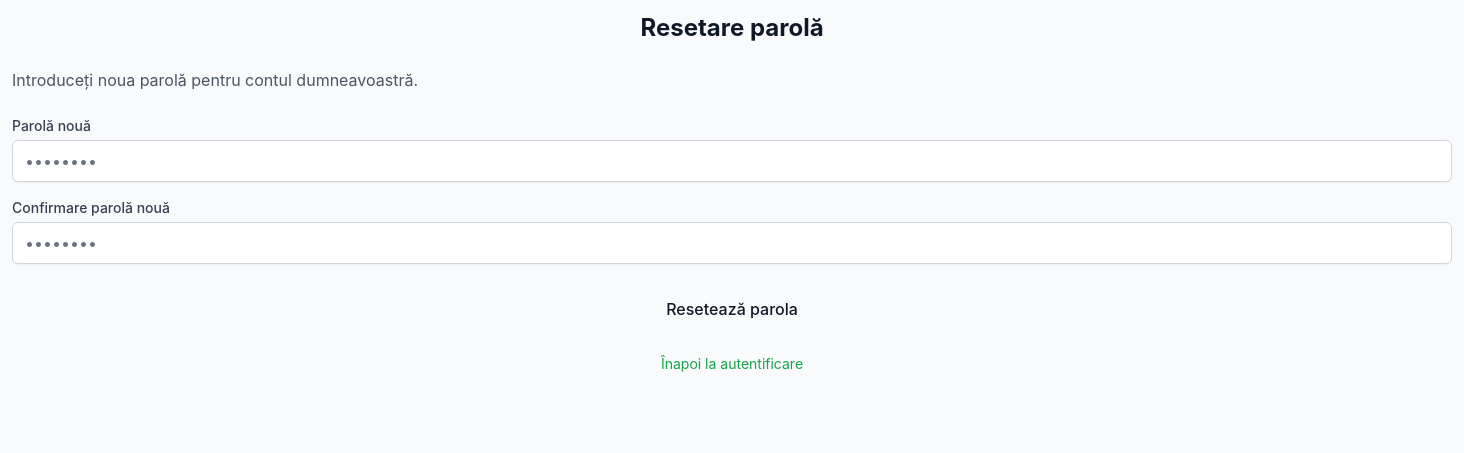
Test: ResetPasswordPage › shows error message when reset password fails
Expected: the heading "Resetare parolă" is shown, [640, 13, 824, 42]
Note: Fill in password fields
Step 1. Type "NewPassword123!" into the password field labelled "Parolă nouă" → (732, 161), box [12, 140, 1452, 182]
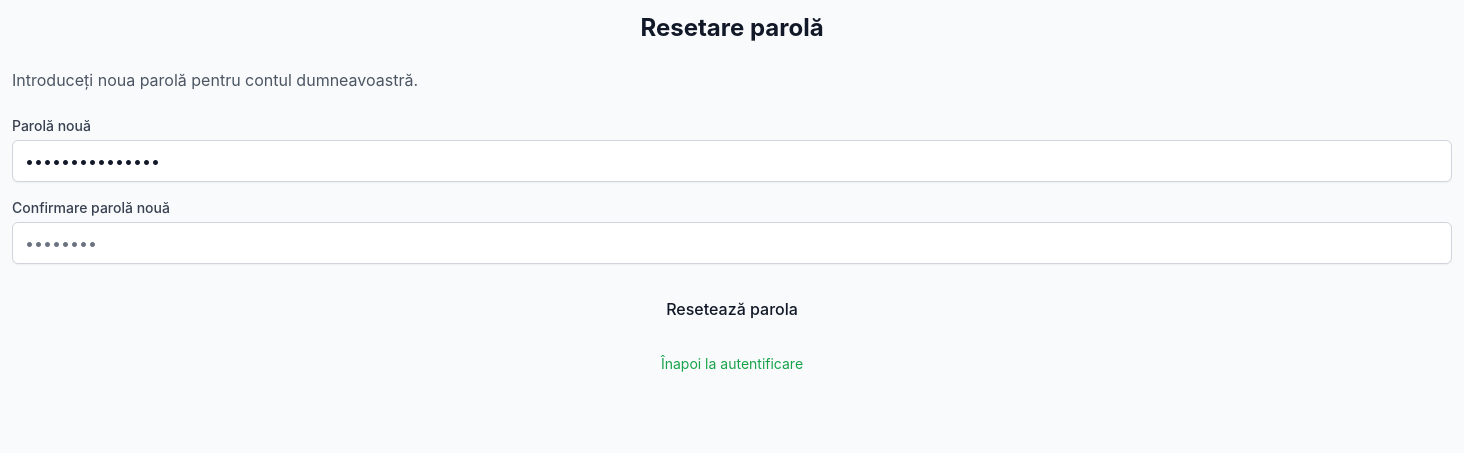
Step 2. Type "NewPassword123!" into the password field labelled "Confirmare parolă nouă" → (732, 243), box [12, 222, 1452, 264]
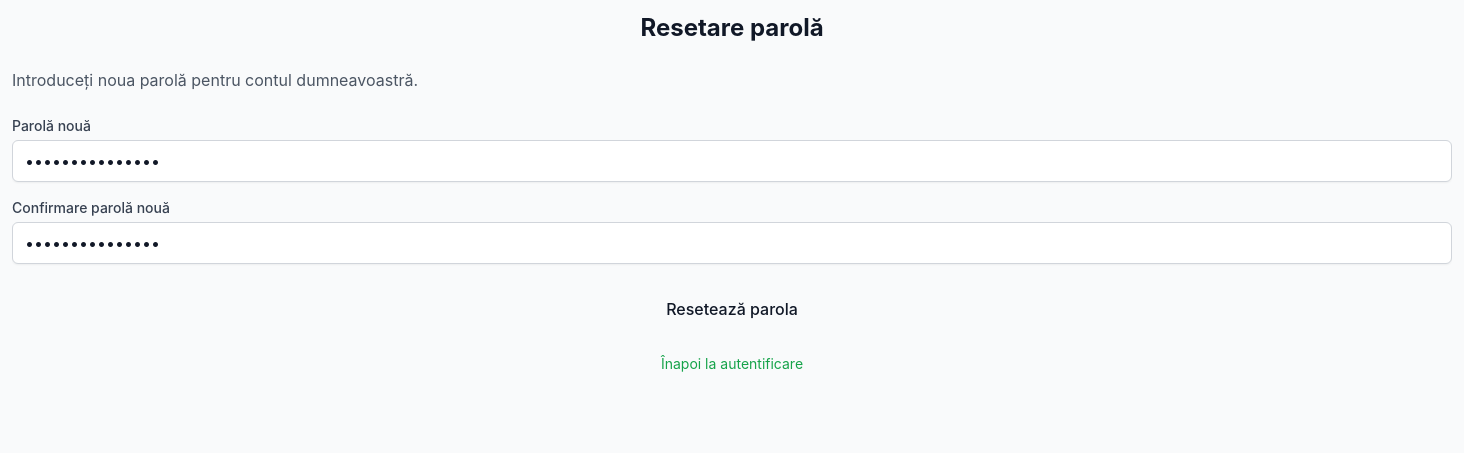
Note: Submit form
Step 3. Submit the form, box [12, 116, 1452, 330]
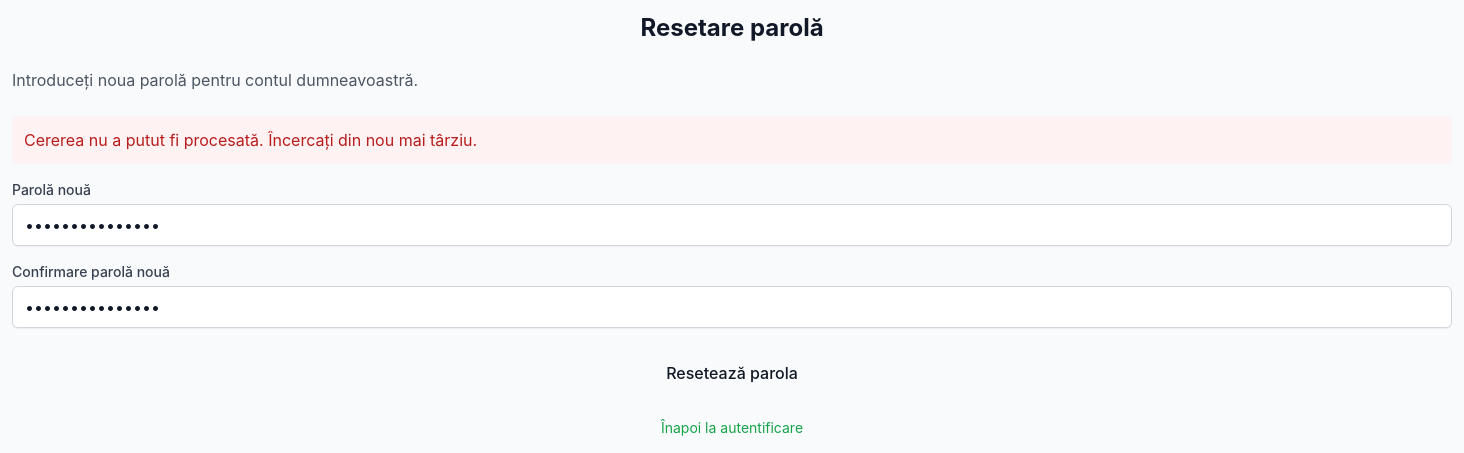
Expected: the text "Cererea nu a putut fi procesată" is shown, [24, 130, 477, 150]
